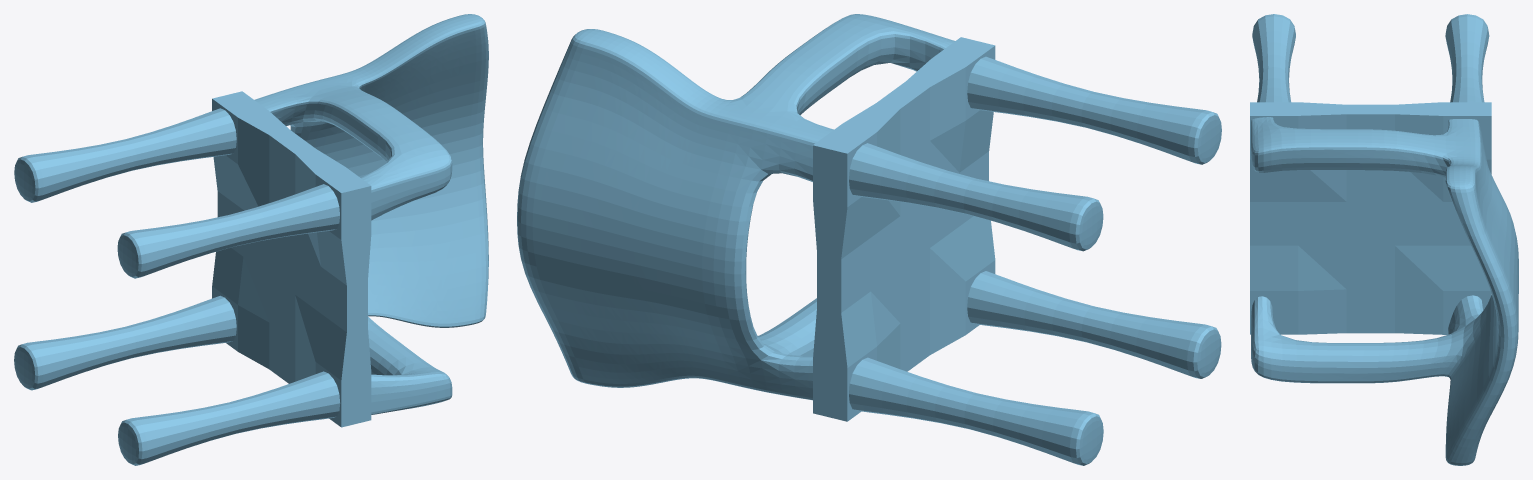
File: armchair_4.glb
The picture shows the model from 3 angles, left to right: view 1: azimuth 30°, elevation 25°; view 2: azimuth 150°, elevation 25°; view 3: azimuth 270°, elevation 25°; orthographic projection. The views are drawn at different scales.
Visible parts, largest first — view 1: world; view 2: world; view 3: world.
Part boxes in pixels (x1=…): world: x1=14, y1=14, x2=488, y2=465; world: x1=517, y1=14, x2=1221, y2=465; world: x1=1250, y1=14, x2=1518, y2=465.
Size of the model in its own units: 0.1461 by 0.0878 by 0.076.
